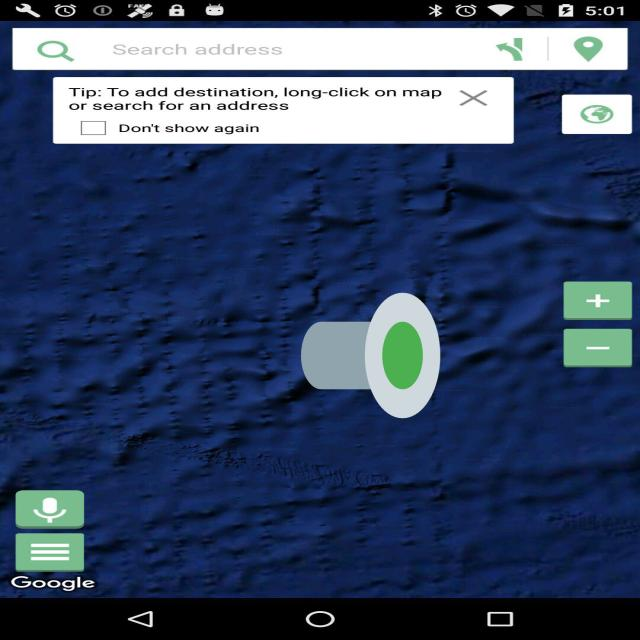social proof: (301, 240, 440, 471)
